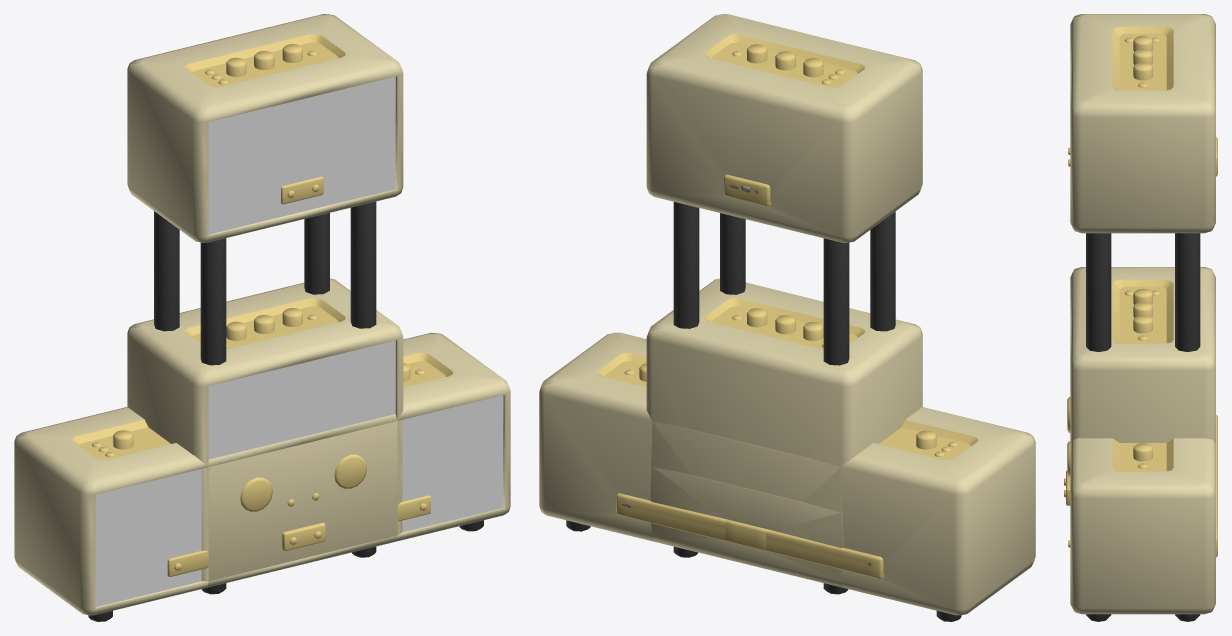
File: Speaker.fbx
3 renders of one model, left to right at view 1: azimuth 30°, elevation 25°; view 2: azimuth 150°, elevation 25°; view 3: azimuth 270°, elevation 25°, orthographic. The views are drawn at different scales.
Visible parts, largest first — view 1: Speaker.017, Speaker.009, Speaker.015, Speaker.007, Speaker_Main, Speaker.001, Speaker.014; view 2: Speaker.017, Speaker.009, Speaker.015, Speaker_Main, Speaker.001, Speaker.016, Speaker.006; view 3: Speaker.017, Speaker.009, Speaker.015, Speaker.014.
Boxes of the visible parts, bbox=[...] form: Speaker.017: bbox=[127, 14, 403, 592]; Speaker.009: bbox=[14, 332, 510, 621]; Speaker.015: bbox=[127, 278, 403, 520]; Speaker.007: bbox=[208, 421, 397, 581]; Speaker_Main: bbox=[201, 414, 402, 587]; Speaker.001: bbox=[201, 414, 402, 594]; Speaker.014: bbox=[240, 454, 366, 511]; Speaker.017: bbox=[646, 14, 922, 592]; Speaker.009: bbox=[539, 332, 1035, 621]; Speaker.015: bbox=[646, 278, 922, 581]; Speaker_Main: bbox=[650, 422, 854, 593]; Speaker.001: bbox=[648, 421, 848, 594]; Speaker.016: bbox=[651, 466, 857, 551]; Speaker.006: bbox=[725, 523, 766, 549]; Speaker.017: bbox=[1068, 14, 1217, 351]; Speaker.009: bbox=[1068, 414, 1217, 621]; Speaker.015: bbox=[1070, 267, 1215, 442]; Speaker.014: bbox=[1067, 397, 1070, 476].
Bounding box in the file's own units: 2.14 × 2.38 × 0.6915.
